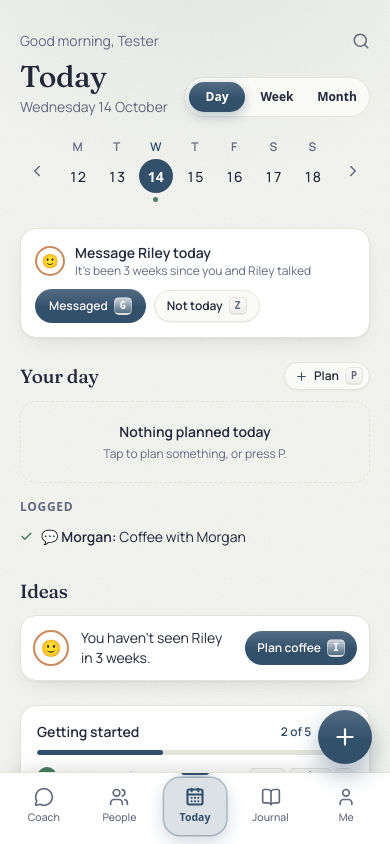
Test case: P2 journal editing and filters › deletes an entry only after confirming
Click the button "Journal".
click(271, 807)  # box [233,781,308,832]
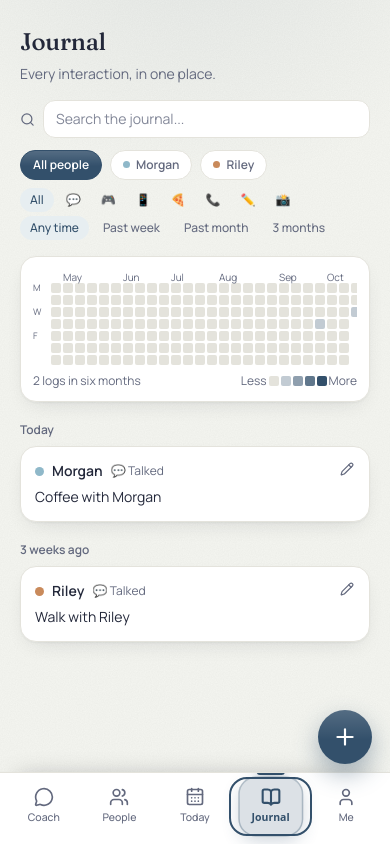
Click the button named "Edit entry: Riley".
click(347, 589)  # box [334,576,360,602]
(page scrolled)
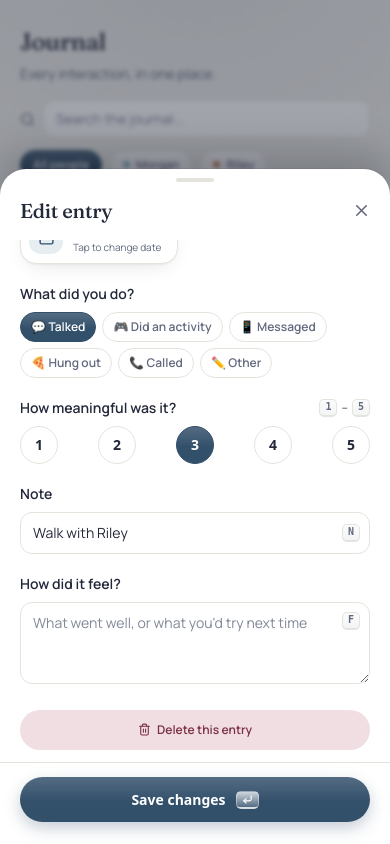
Click the button "Delete this entry".
click(195, 730)  # box [20,710,370,750]
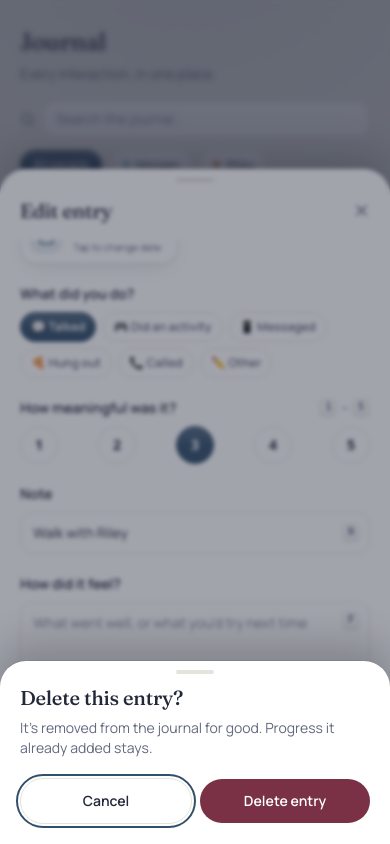
Click the button "Delete entry".
click(285, 801)  # box [200,779,370,823]
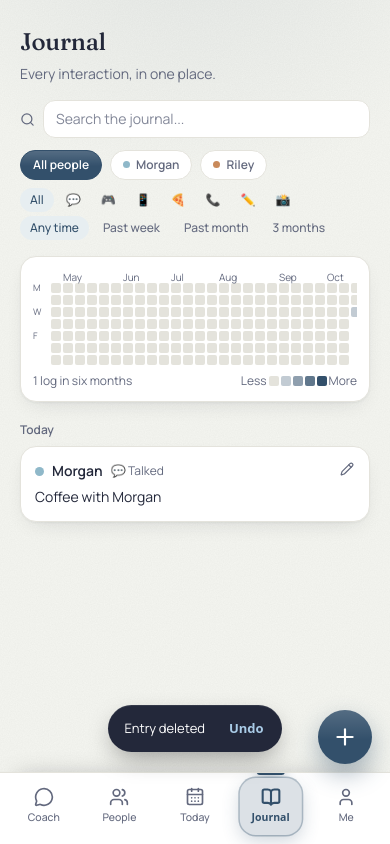
Result: the button "Walk with Riley" is gone
